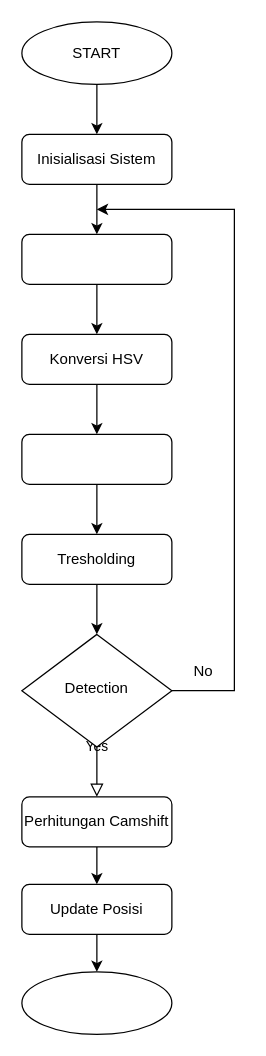
Some shapes in this 266 by 1056 pixel diagram are drawn without their labels. The shapes that lost their labels are listed below. From the top down, each one's centre as x and y in pixels, then its label:
At point 96,258: "Pengambilan Citra RGB".
At point 96,458: "Filterisasi Citra".
At point 96,1002: "END".
